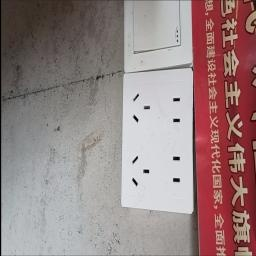outlet: (116, 66, 197, 225)
